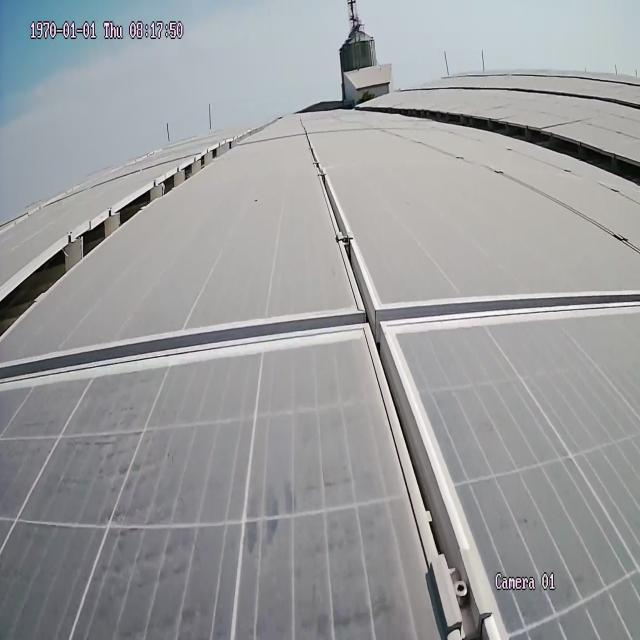interior panel: (4, 135, 635, 632)
outher panel: (5, 147, 250, 344), (395, 105, 638, 185)
